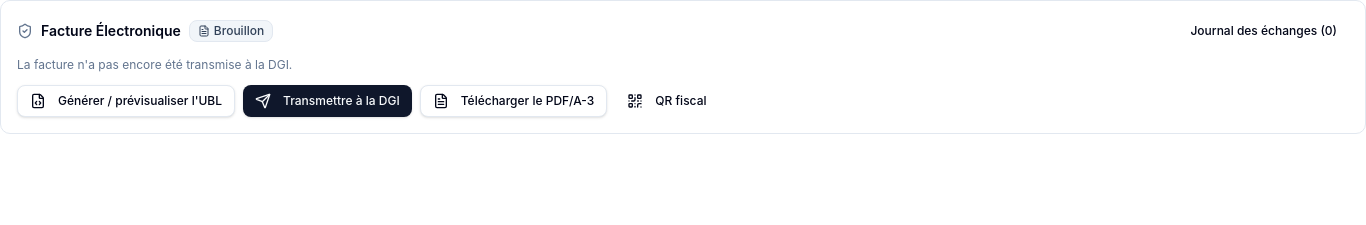
Test: FactureElectroniquePanel — retours d'action › montre les anomalies bloquantes renvoyées par le serveur
Click the button "Générer / prévisualiser l'UBL". click: (126, 101)
box: [17,85,235,117]
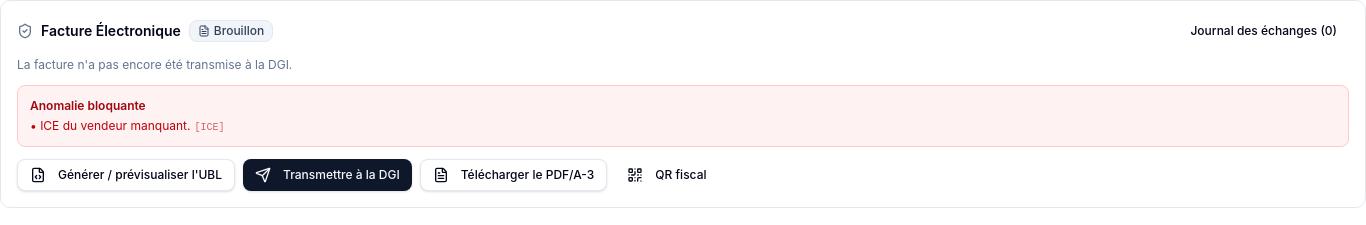
Check: the list item "• ICE du vendeur manquant.[ICE]" is shown, box [30,118,224,133]
Check: the text "Anomalie bloquante" is shown, box [30,98,146,113]
